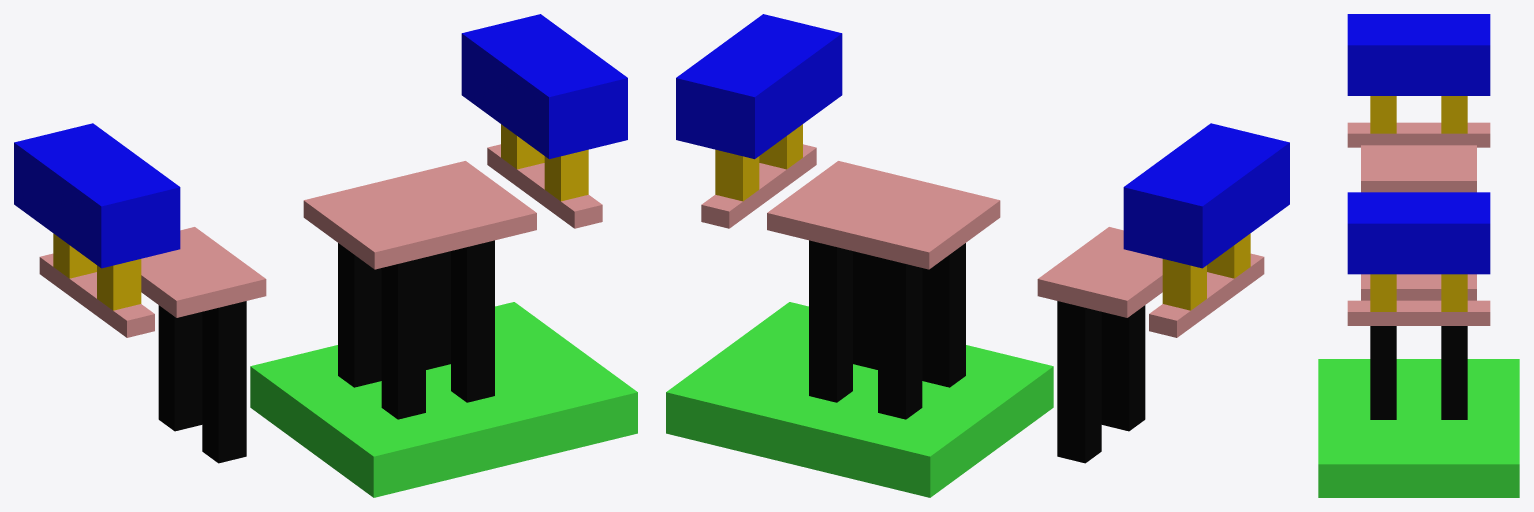
Rendered from sky130_fd_sc_hd__tap_2.obj.
The picture shows the model from 3 angles, left to right: view 1: azimuth 30°, elevation 25°; view 2: azimuth 150°, elevation 25°; view 3: azimuth 270°, elevation 25°; orthographic projection. The views are drawn at different scales.
Visible parts, largest first — view 1: nwell, metal1, licon, li, mcon; view 2: nwell, metal1, licon, li, mcon; view 3: nwell, metal1, li, licon, mcon.
Boxes of the visible parts, <box> form: nwell: <box>250,302,637,497</box>; metal1: <box>14,14,627,268</box>; licon: <box>158,240,494,463</box>; li: <box>39,144,602,337</box>; mcon: <box>53,124,588,310</box>; nwell: <box>666,302,1053,497</box>; metal1: <box>676,14,1289,268</box>; licon: <box>809,240,1145,463</box>; li: <box>701,144,1264,337</box>; mcon: <box>715,124,1250,310</box>; nwell: <box>1318,359,1519,497</box>; metal1: <box>1347,14,1490,274</box>; li: <box>1347,122,1490,325</box>; licon: <box>1370,326,1467,419</box>; mcon: <box>1370,96,1467,311</box>.
Bounding box in the file's own units: 3.2 × 1.98 × 1.3.
